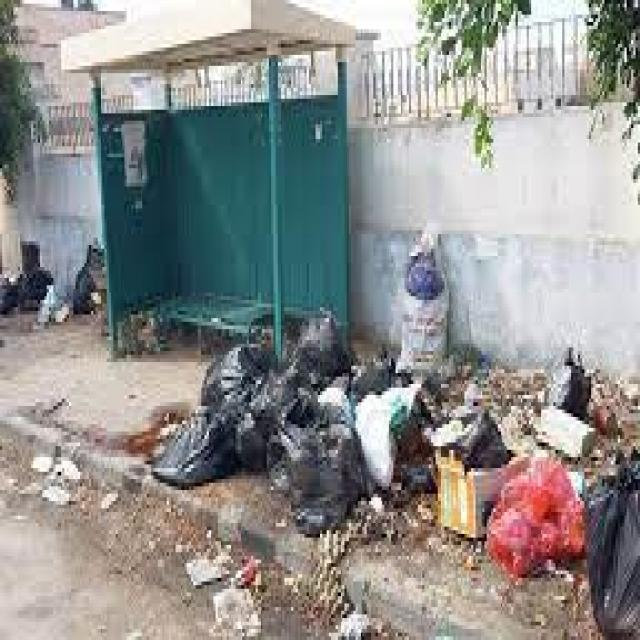garbage: (163, 314, 360, 534), (490, 450, 586, 580), (430, 406, 516, 540), (0, 234, 109, 333), (586, 455, 640, 640), (360, 360, 430, 496), (396, 224, 454, 360), (185, 545, 266, 640), (32, 448, 90, 520), (548, 342, 593, 422)
